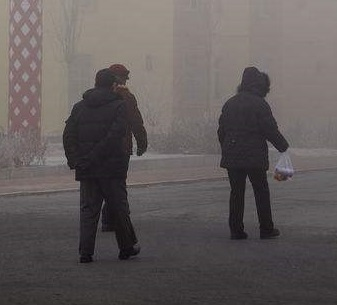person: (62, 66, 145, 266), (216, 66, 294, 243), (102, 63, 148, 232)
